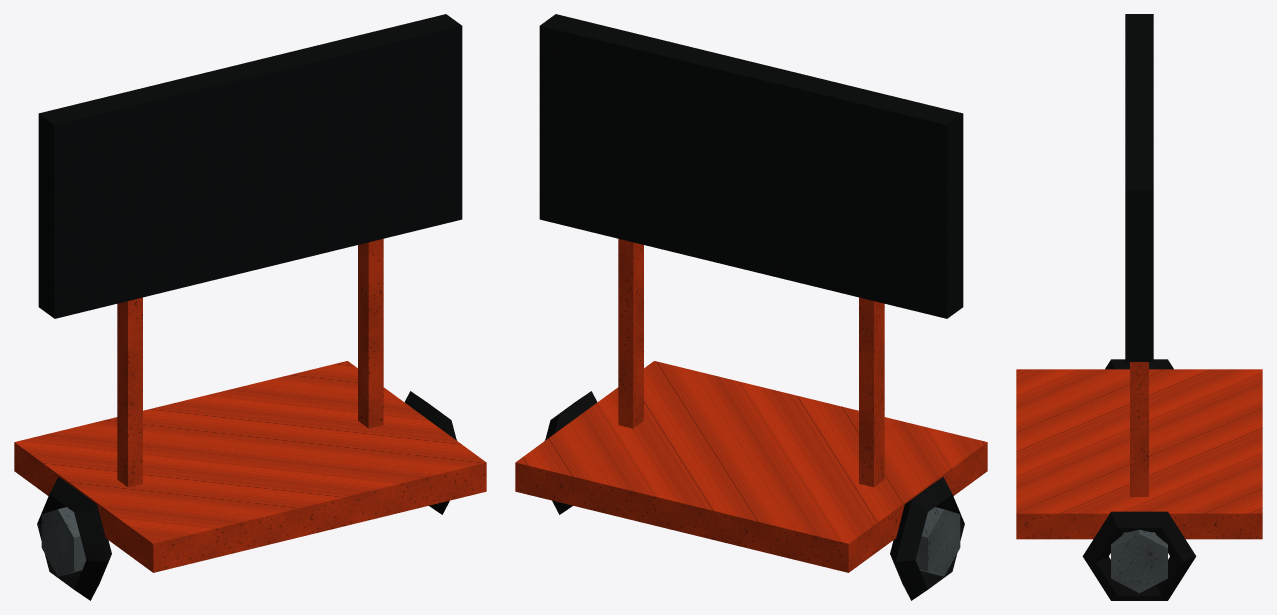
The model's file is PROP-6F830F9B52DC_lod2.glb.
The picture shows the model from 3 angles, left to right: view 1: azimuth 30°, elevation 25°; view 2: azimuth 150°, elevation 25°; view 3: azimuth 270°, elevation 25°; orthographic projection. The views are drawn at different scales.
Visible parts, largest first — view 1: arrow_board.001, trailer_chassis.001, arrow_board_legs.001, tire.001, rim.001; view 2: arrow_board.001, trailer_chassis.001, arrow_board_legs.001, tire.001, rim.001; view 3: trailer_chassis.001, arrow_board.001, tire.001, rim.001, arrow_board_legs.001.
Part boxes in pixels (x1=…): arrow_board.001: x1=38, y1=14, x2=462, y2=318; trailer_chassis.001: x1=14, y1=361, x2=486, y2=572; arrow_board_legs.001: x1=117, y1=239, x2=383, y2=487; tire.001: x1=37, y1=391, x2=456, y2=600; rim.001: x1=41, y1=439, x2=457, y2=576; arrow_board.001: x1=539, y1=14, x2=963, y2=318; trailer_chassis.001: x1=515, y1=361, x2=987, y2=572; arrow_board_legs.001: x1=618, y1=239, x2=884, y2=487; tire.001: x1=545, y1=391, x2=964, y2=600; rim.001: x1=544, y1=439, x2=960, y2=576; trailer_chassis.001: x1=1016, y1=369, x2=1262, y2=539; arrow_board.001: x1=1125, y1=14, x2=1153, y2=361; tire.001: x1=1082, y1=359, x2=1196, y2=600; rim.001: x1=1111, y1=529, x2=1167, y2=593; arrow_board_legs.001: x1=1130, y1=362, x2=1148, y2=496.
Size of the model in its own units: 2.2 by 2.46 by 1.3.
Materials: 4 (4 with a texture image).
